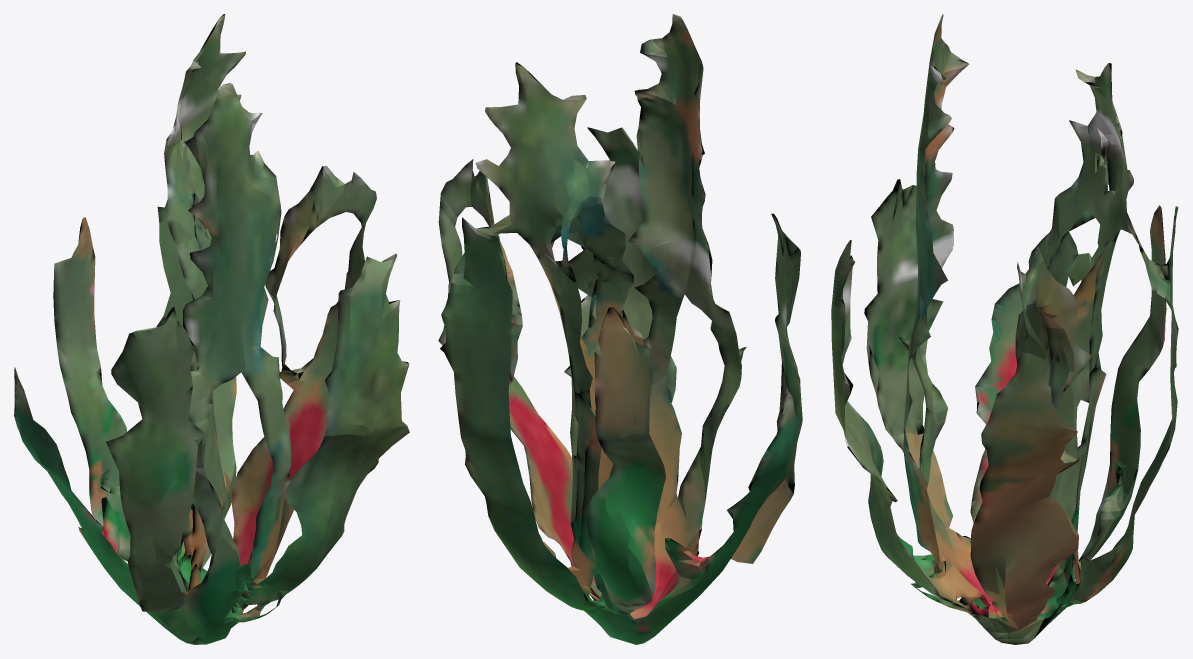
The model's file is Plant13.glb.
The picture shows the model from 3 angles, left to right: view 1: azimuth 30°, elevation 25°; view 2: azimuth 150°, elevation 25°; view 3: azimuth 270°, elevation 25°; orthographic projection. The views are drawn at different scales.
Visible parts, largest first — view 1: model.001_LOD0; view 2: model.001_LOD0; view 3: model.001_LOD0.
Boxes of the visible parts, left/top/right/bottom form: model.001_LOD0: left=14, top=14, right=409, bottom=644; model.001_LOD0: left=438, top=14, right=802, bottom=644; model.001_LOD0: left=831, top=14, right=1178, bottom=644.
Size of what is drawn, in the model's own units: 0.3123 by 0.5 by 0.2543.
Materials: 1 (1 with a texture image).
